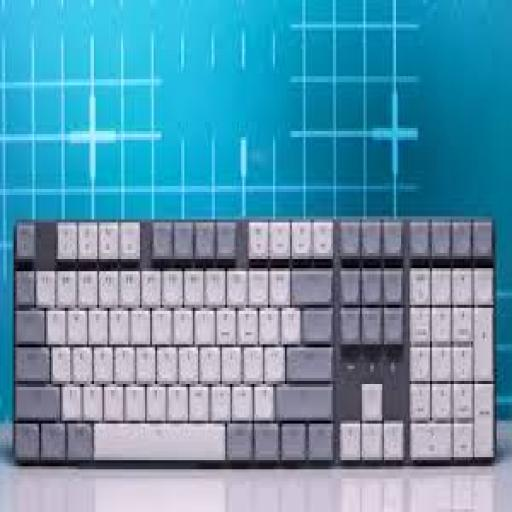KEYBOARD-2: (14, 216, 495, 463)
